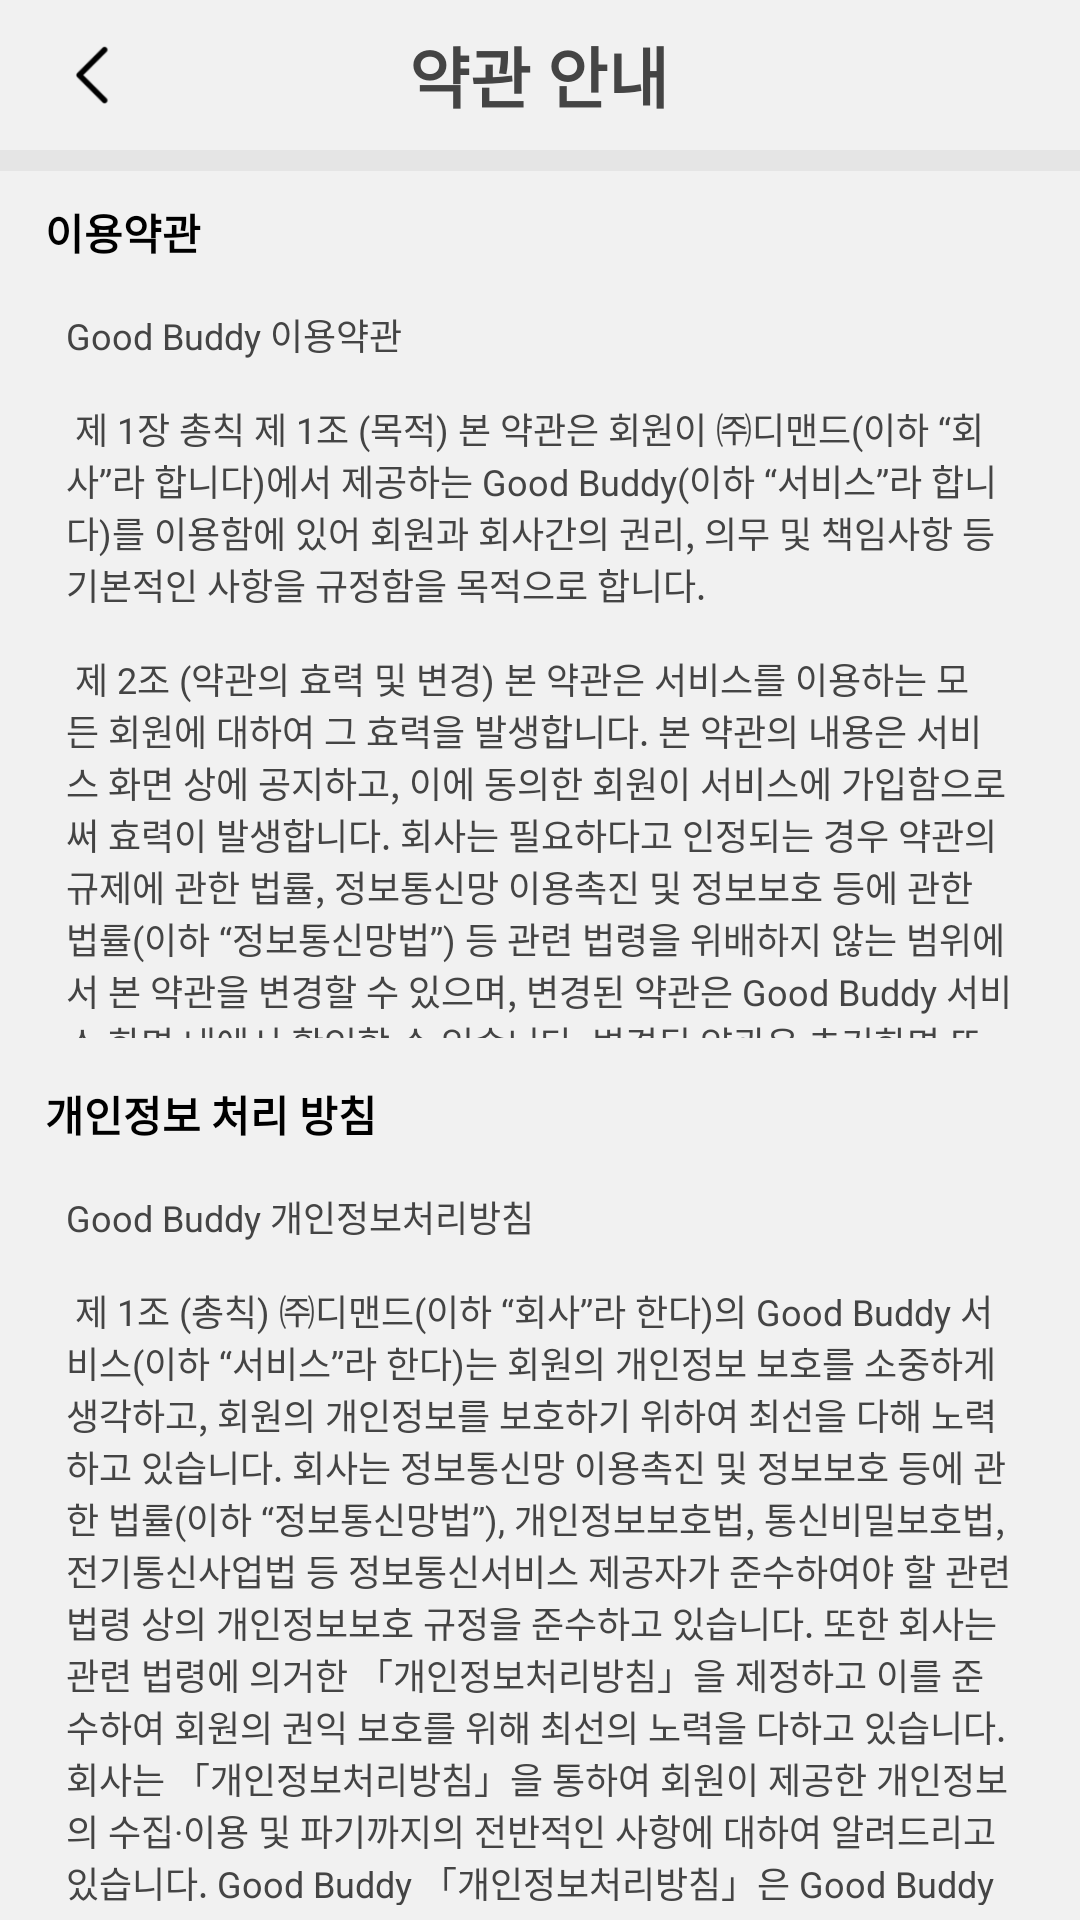

Icons on this 1080px x 1920px Android screen, each with its box as (x1, y1, x2, y2):
arrow left: (76, 46, 108, 104)
